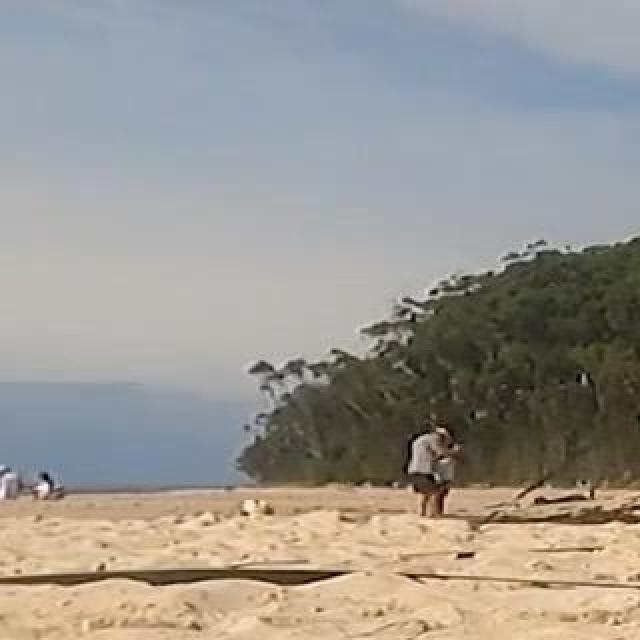volleyball: (238, 498, 274, 528)
